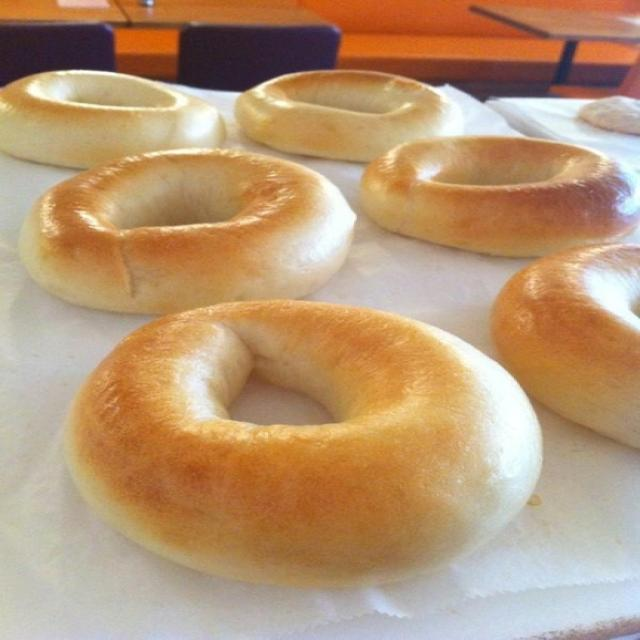面包点心: (3, 29, 633, 621)
